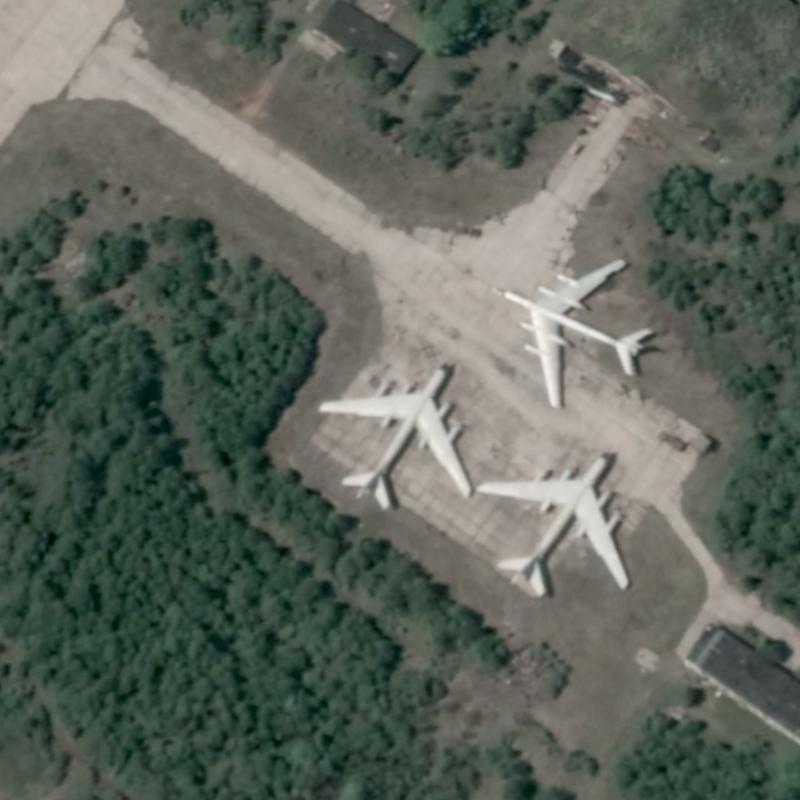A17: (312, 355, 475, 513), (492, 252, 654, 410), (471, 446, 633, 600)
